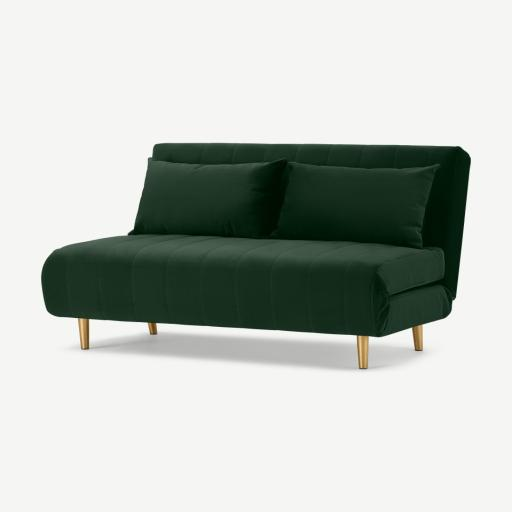back_cushion: (136, 159, 439, 248)
legs: (78, 318, 89, 349), (358, 336, 368, 369), (413, 326, 422, 351), (148, 323, 156, 334)
one-seater: (0, 0, 511, 512)
seat_cushion: (43, 234, 451, 335)
